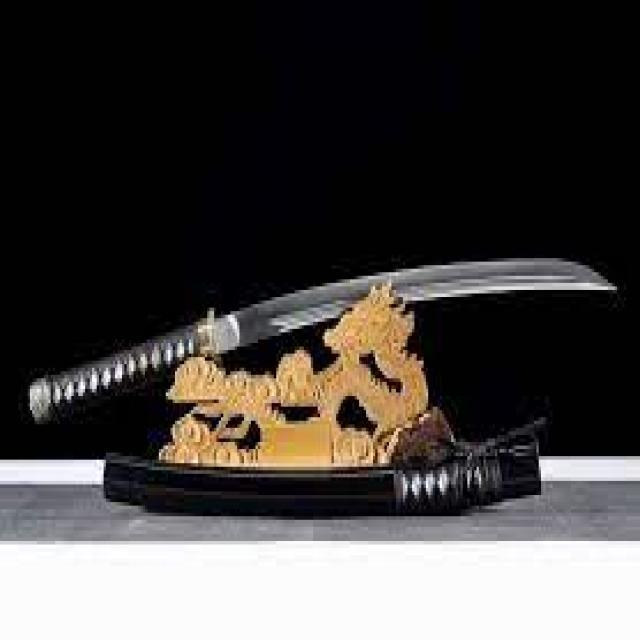long sword: (26, 249, 620, 418)
